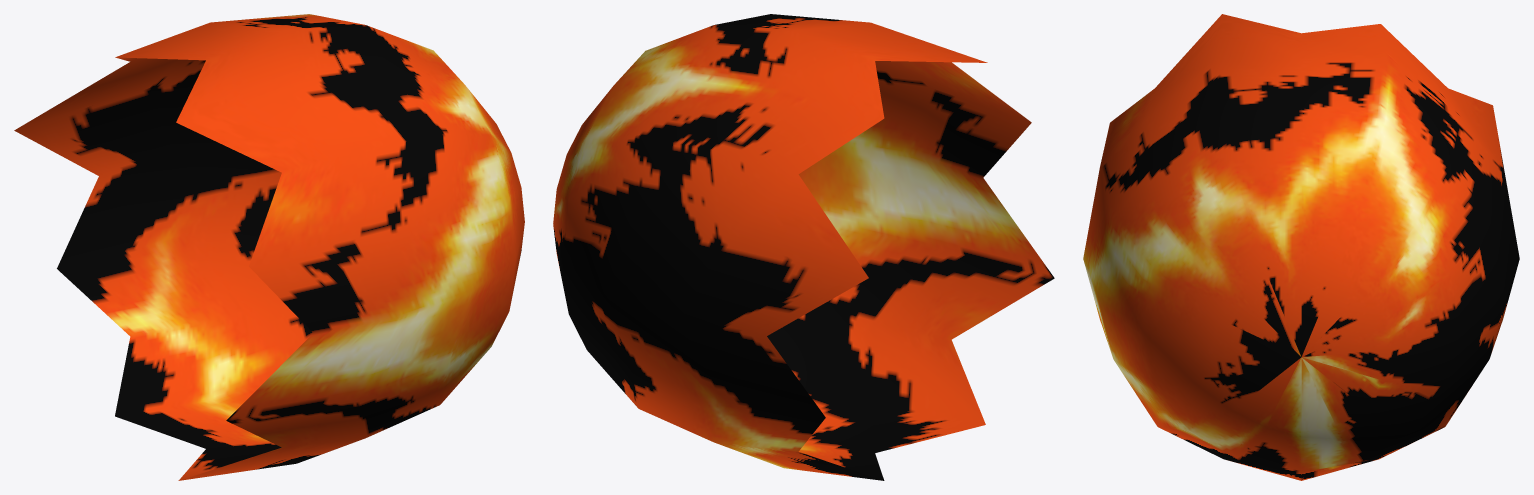
File: half_sphere_03.FBX
3 views of the same model, side by side, from view 1: azimuth 30°, elevation 25°; view 2: azimuth 150°, elevation 25°; view 3: azimuth 270°, elevation 25° (orthographic). The views are drawn at different scales.
Parts seen in each view (by area): view 1: half_sphere_03; view 2: half_sphere_03; view 3: half_sphere_03.
Boxes of the visible parts, x1=… form: half_sphere_03: x1=14, y1=14, x2=524, y2=480; half_sphere_03: x1=553, y1=14, x2=1054, y2=480; half_sphere_03: x1=1083, y1=14, x2=1519, y2=480.
Bounding box in the file's own units: 54.11 × 55.42 × 55.42.
1 material, 1 textured.
